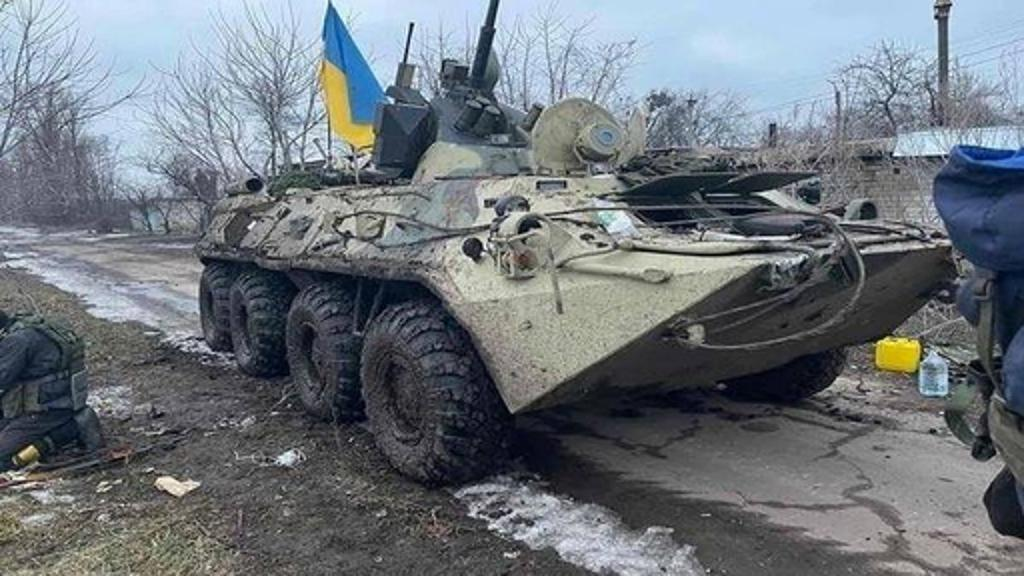APC-IFV: (190, 48, 960, 490)
